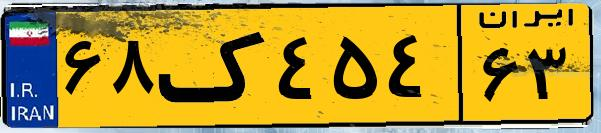3: (525, 38, 570, 115)
4: (270, 28, 330, 110), (385, 28, 445, 110)
5: (330, 28, 385, 110)
6: (57, 26, 110, 100), (475, 38, 525, 113)
8: (110, 28, 158, 98)
ک: (158, 12, 270, 120)
